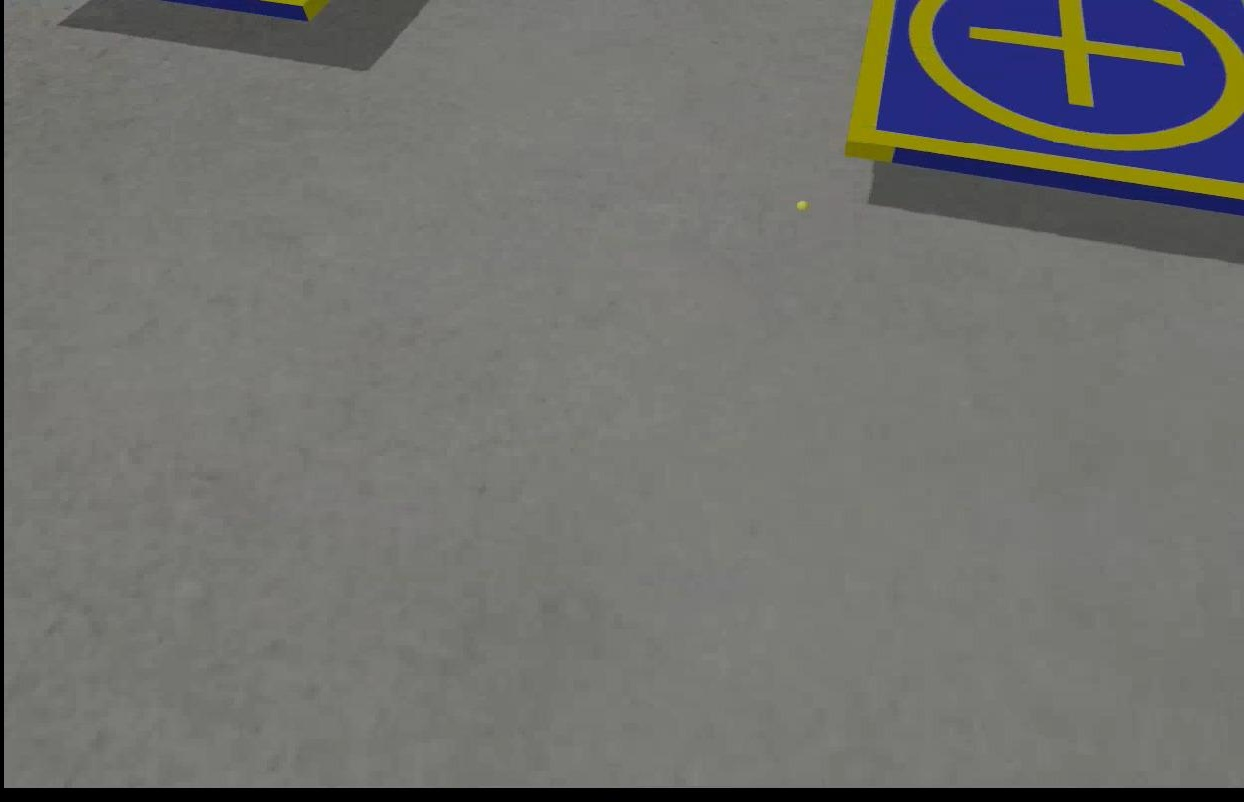small_base: (840, 1, 1242, 213)
